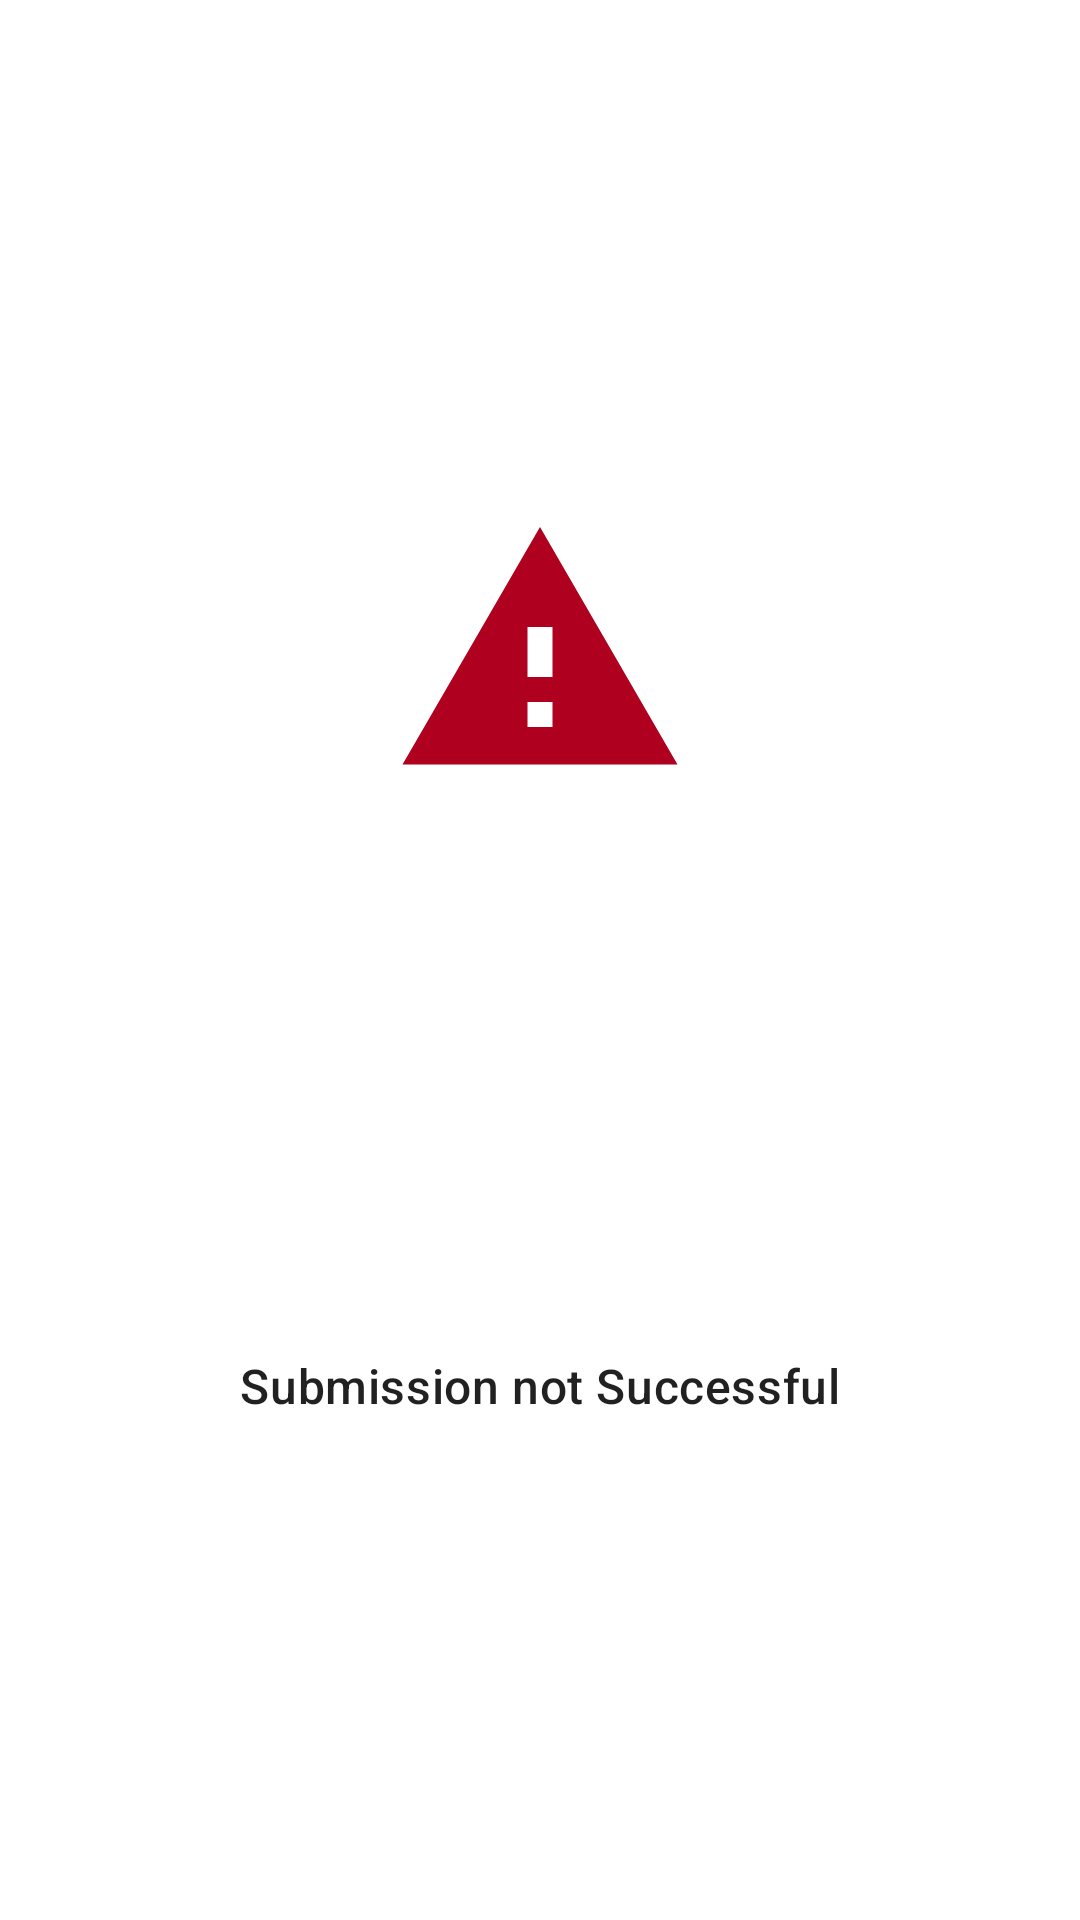

Named icons in this screenshot (1080px×1920px) and their centers, point (x, y):
Error alert image: point (540, 646)
